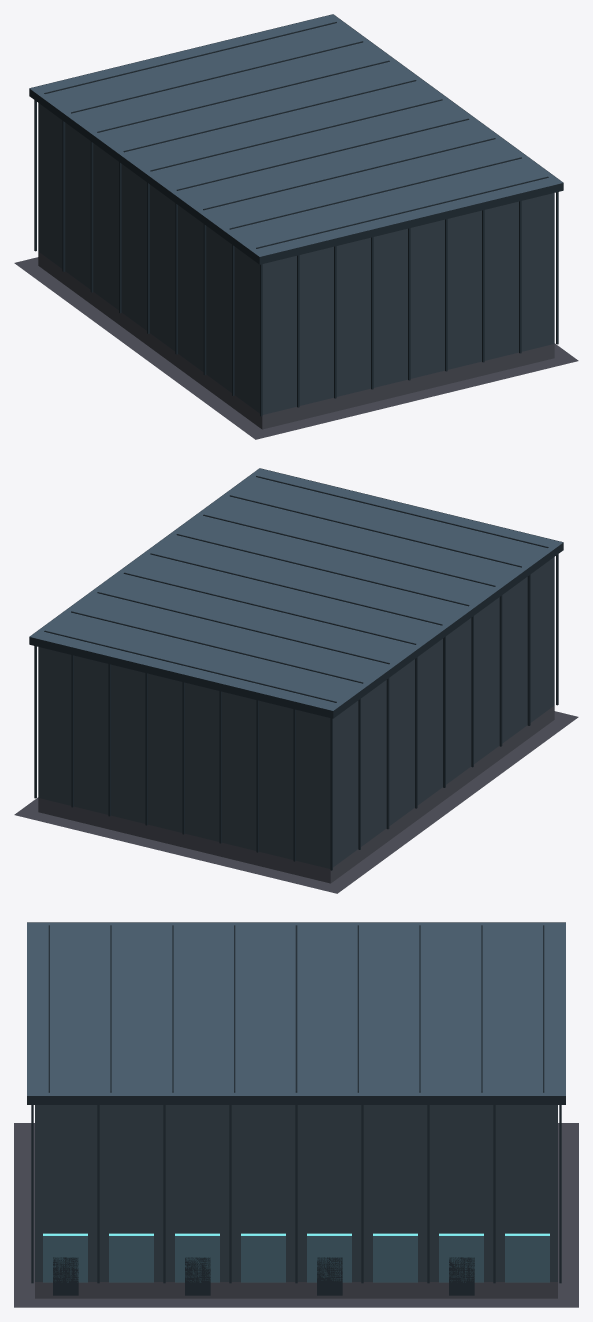
The model's file is shell.glb.
3 renders of one model, top to bottom at view 1: azimuth 30°, elevation 25°; view 2: azimuth 150°, elevation 25°; view 3: azimuth 270°, elevation 25°, orthographic. The views are drawn at different scales.
Parts seen in each view (by area): view 1: shell_bowl_mass_cladding, shell_roof_canopy, shell_roof_canopy_fascia, shell_bowl_mass_facade_panels, shell_bowl_mass_plinth, shell_field_floor_apron; view 2: shell_bowl_mass_cladding, shell_roof_canopy, shell_roof_canopy_fascia, shell_bowl_mass_facade_panels, shell_bowl_mass_plinth, shell_field_floor_apron; view 3: shell_roof_canopy, shell_bowl_mass_cladding, shell_bowl_mass_suite_glass_lobby, shell_field_floor_apron, shell_roof_canopy_fascia, shell_bowl_mass_plinth, shell_bowl_mass_facade_panels, shell_bowl_mass_portal_frames, shell_ribbon_led_entry_static.
Part boxes in pixels (x1=…): shell_bowl_mass_cladding: x1=38, y1=103, x2=554, y2=414; shell_roof_canopy: x1=29, y1=14, x2=562, y2=256; shell_roof_canopy_fascia: x1=29, y1=14, x2=563, y2=264; shell_bowl_mass_facade_panels: x1=34, y1=100, x2=558, y2=416; shell_bowl_mass_plinth: x1=38, y1=251, x2=554, y2=429; shell_field_floor_apron: x1=14, y1=257, x2=578, y2=439; shell_bowl_mass_cladding: x1=38, y1=557, x2=554, y2=868; shell_roof_canopy: x1=30, y1=468, x2=563, y2=710; shell_roof_canopy_fascia: x1=29, y1=468, x2=563, y2=718; shell_bowl_mass_facade_panels: x1=34, y1=554, x2=558, y2=870; shell_bowl_mass_plinth: x1=38, y1=705, x2=554, y2=883; shell_field_floor_apron: x1=14, y1=711, x2=578, y2=893; shell_roof_canopy: x1=27, y1=922, x2=565, y2=1095; shell_bowl_mass_cladding: x1=35, y1=1105, x2=557, y2=1281; shell_bowl_mass_suite_glass_lobby: x1=43, y1=1236, x2=549, y2=1282; shell_field_floor_apron: x1=14, y1=1123, x2=578, y2=1307; shell_roof_canopy_fascia: x1=27, y1=922, x2=565, y2=1104; shell_bowl_mass_plinth: x1=35, y1=1282, x2=557, y2=1298; shell_bowl_mass_facade_panels: x1=31, y1=1105, x2=561, y2=1283; shell_bowl_mass_portal_frames: x1=53, y1=1257, x2=474, y2=1295; shell_ribbon_led_entry_static: x1=43, y1=1233, x2=549, y2=1235.
Bounding box in the file's own units: 27.85 × 14.59 × 36.05.
